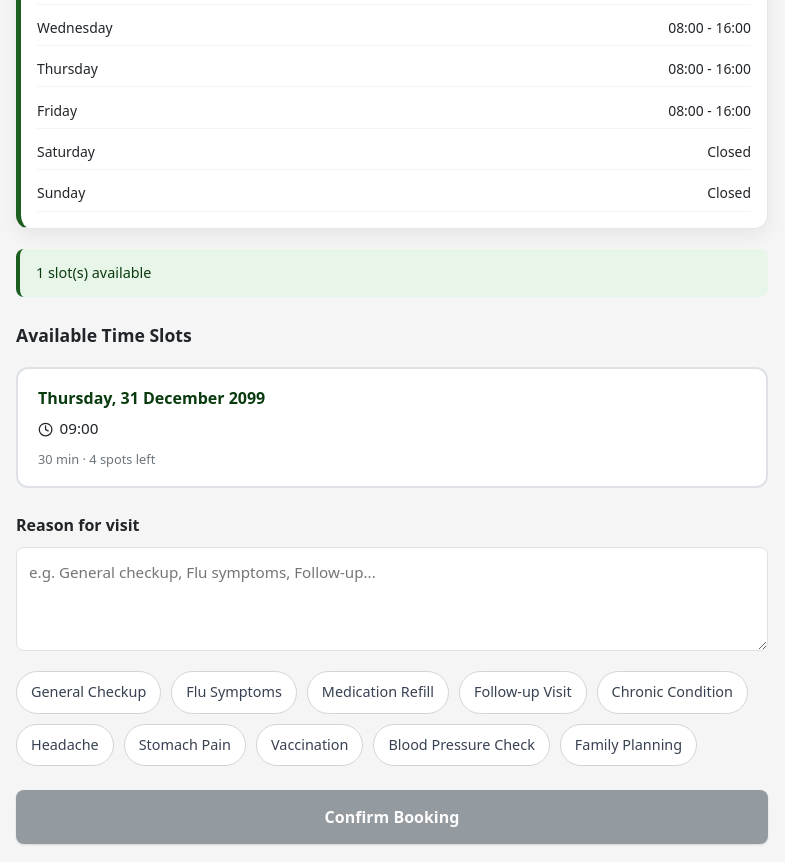
it: Reason input & suggestion chips › selecting multiple chips comma-separates them
(page scrolled)
Expected: the text "09:00" is shown, [38,418,98,438]
Click the button "General Checkup" at (89, 692), box [16,671,161,714]
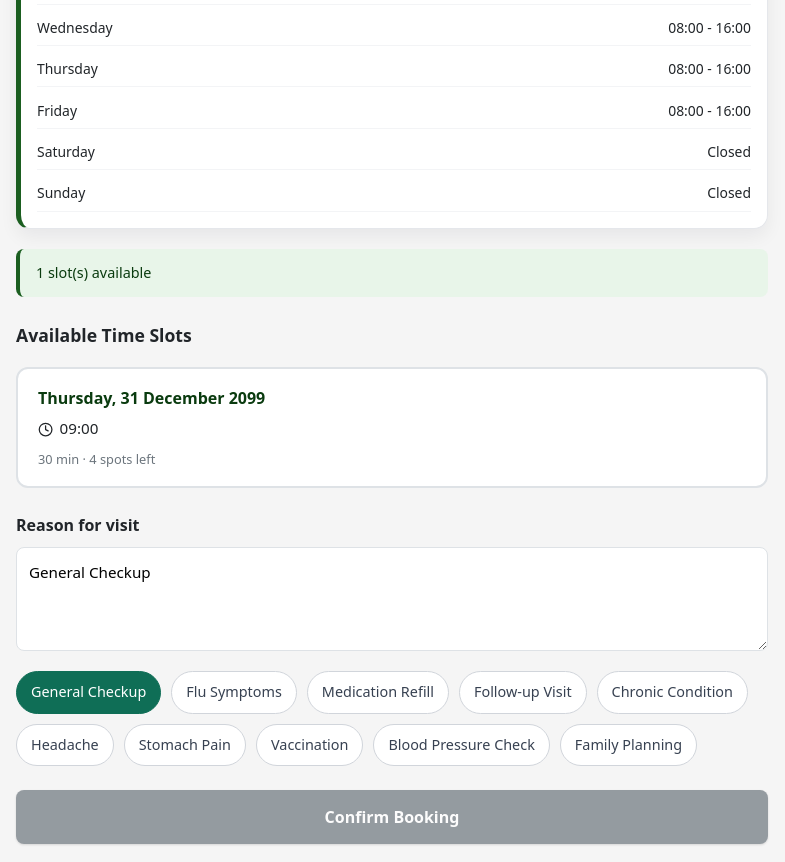
Click the button "Vaccination" at (310, 745), box [256,724,363,766]
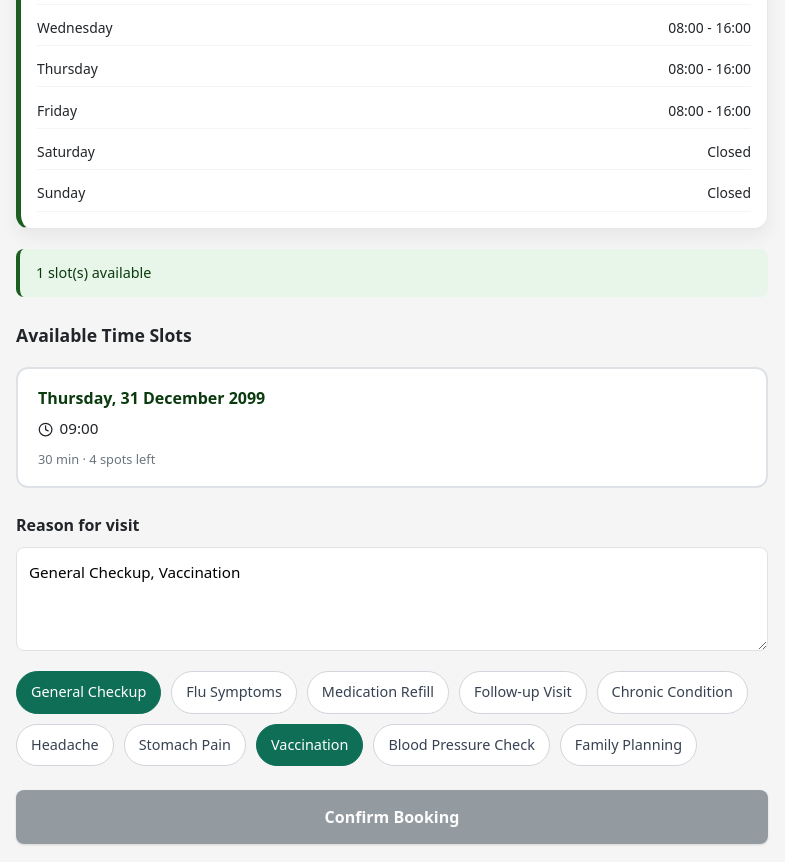
Result: the text box with placeholder "e.g. General checkup, Flu symptoms, Follow-up..." holds "General Checkup, Vaccination" at [16,548,768,651]
